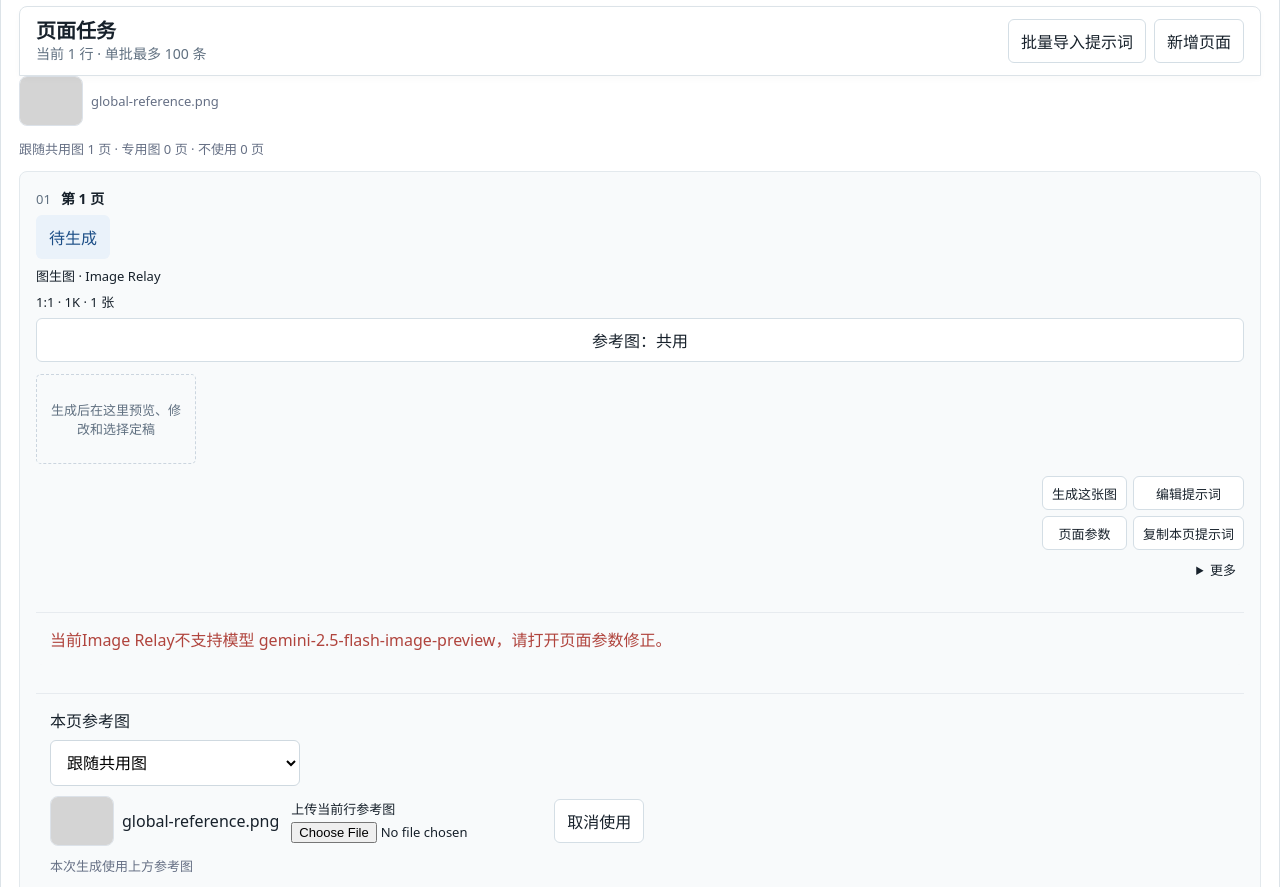
Test: TaskTable › keeps unsupported referenced values visible until the user selects a supported image model
Click the button "页面参数": click(1084, 533) [1042,516,1127,550]
(page scrolled)
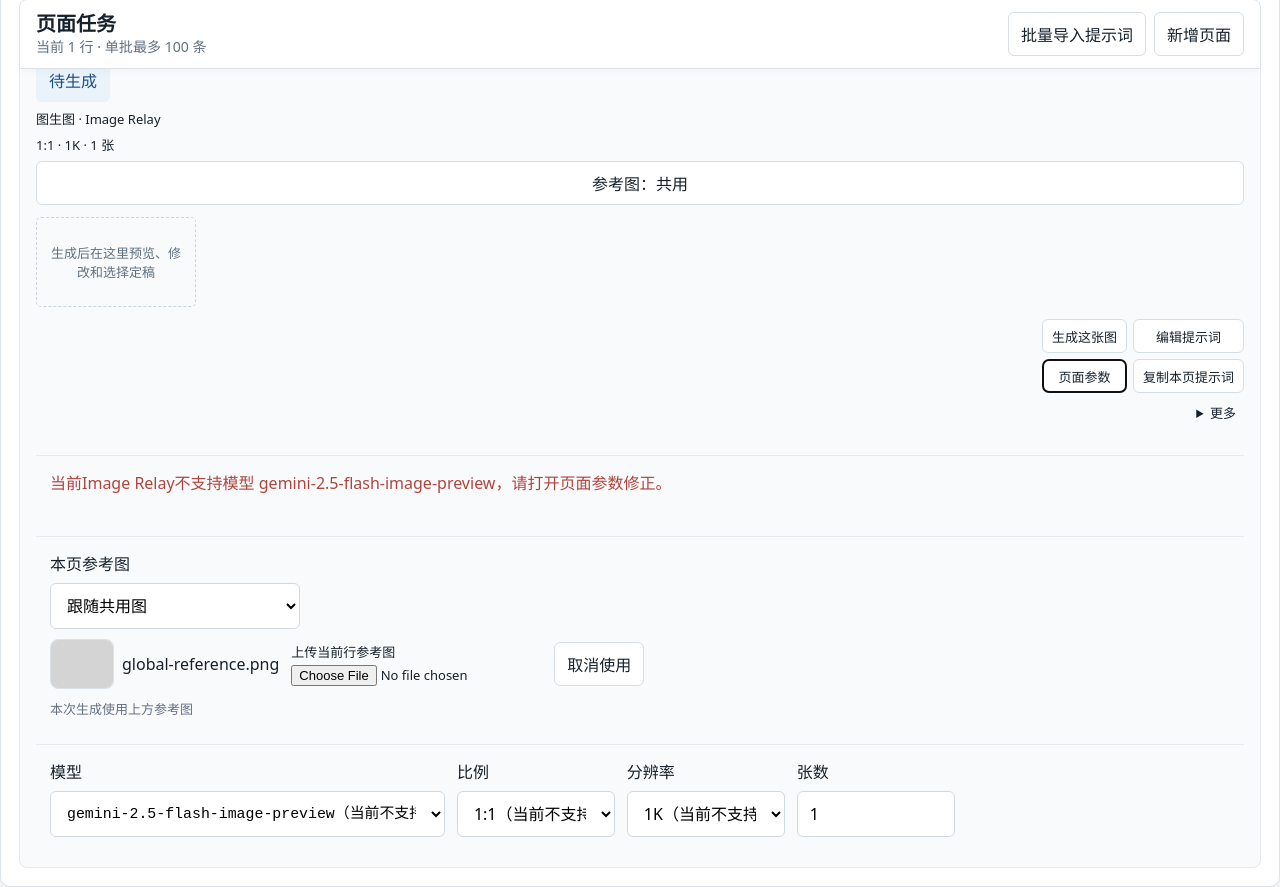
Expected: the text "图生图 · Image Relay" is shown, [36,110,160,128]
Expected: the text "当前Image Relay不支持模型 gemini-2.5-flash-image-preview，请打开页面参数修正。" is shown, [36,455,1244,508]
Select "gpt-image-2（YM2）" in the dropdown labelled "模型": (247, 814) [50,791,445,837]
(page scrolled)
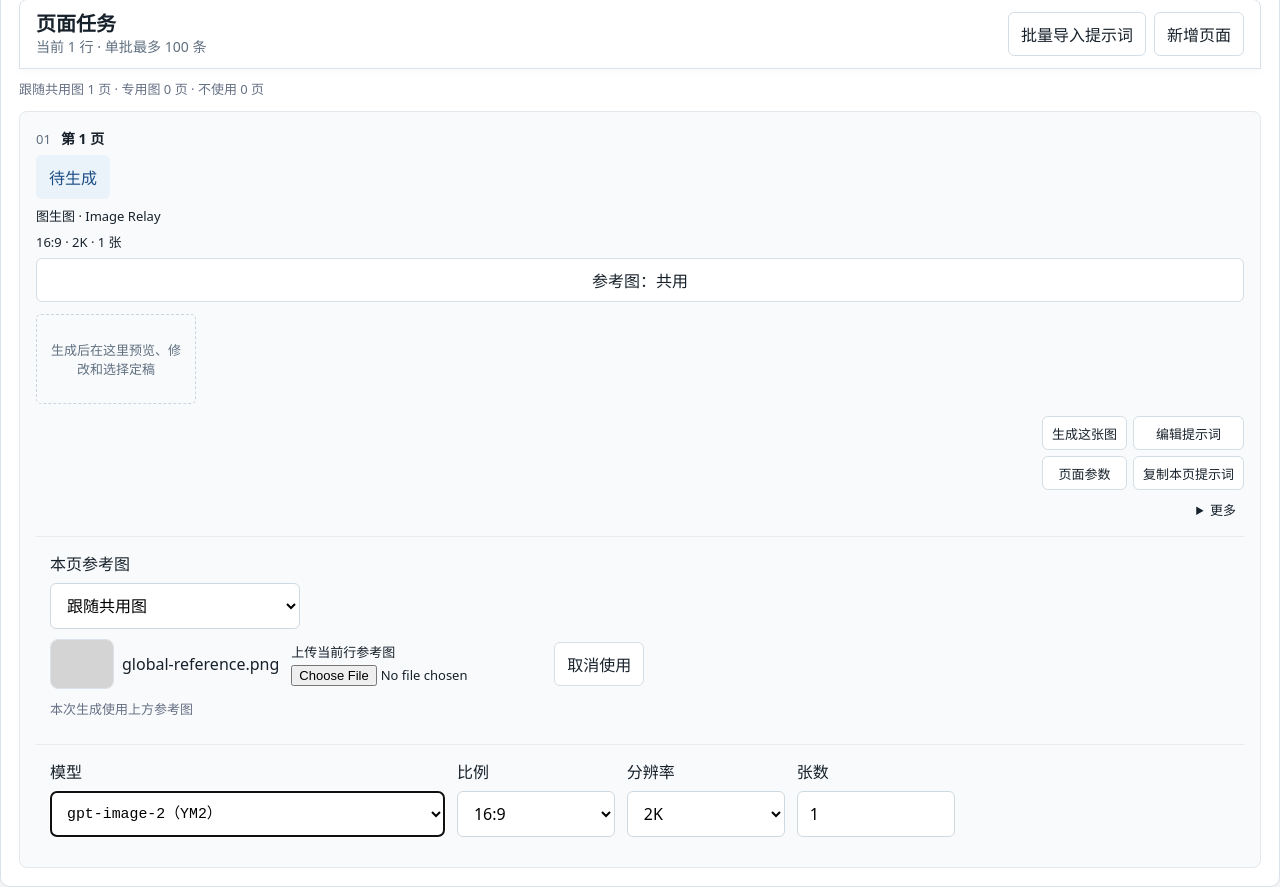
Now the dropdown labelled "比例" shows "16:9", box [457,791,615,837]
Now the dropdown labelled "分辨率" shows "2K", box [627,791,785,837]
Now the text "当前Image Relay不支持" is gone
